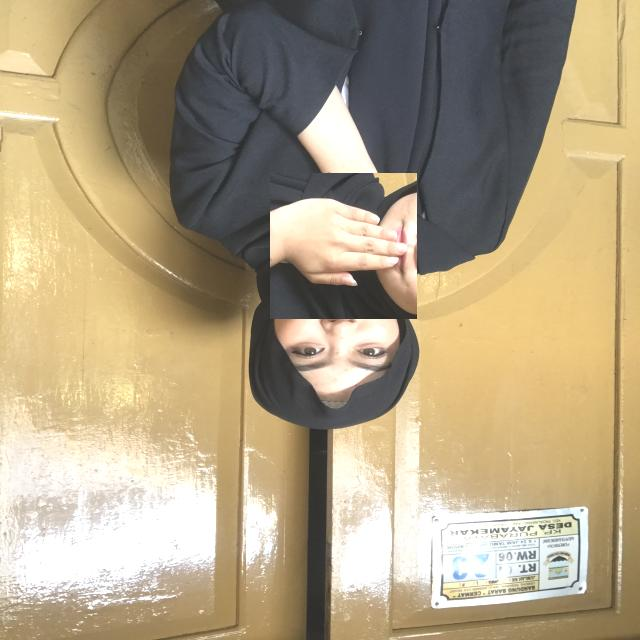ganteng: (270, 172, 417, 320)
